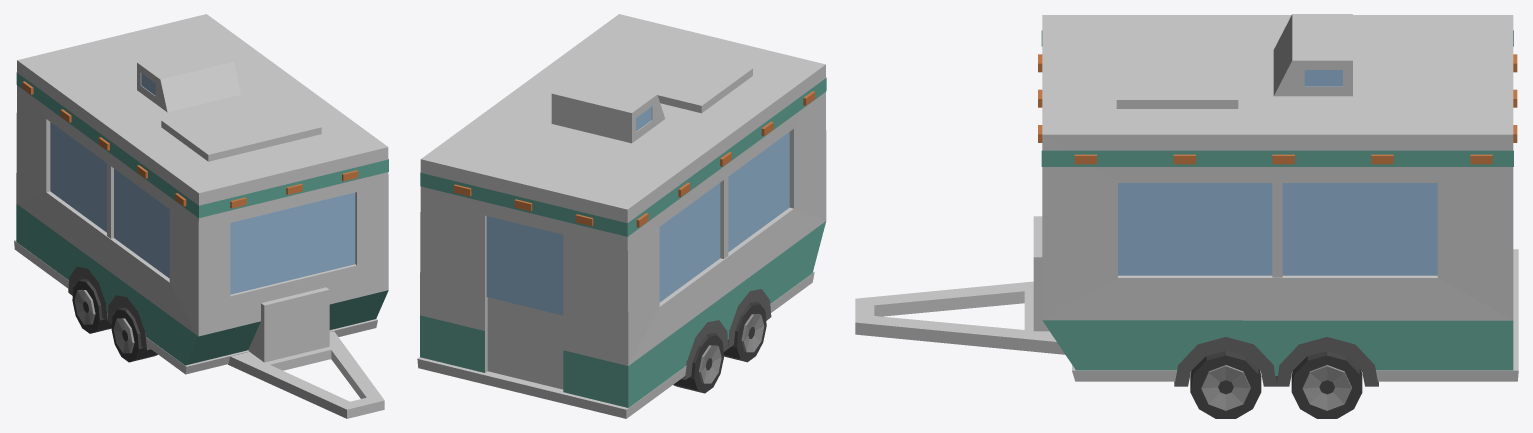
The model's file is transport_old_003.fbx.
The picture shows the model from 3 angles, left to right: view 1: azimuth 30°, elevation 25°; view 2: azimuth 150°, elevation 25°; view 3: azimuth 270°, elevation 25°; orthographic projection. The views are drawn at different scales.
Parts seen in each view (by area): view 1: transport_old_003; view 2: transport_old_003; view 3: transport_old_003.
Part boxes in pixels (<box>): transport_old_003: <box>14,14,388,418</box>; transport_old_003: <box>417,14,826,418</box>; transport_old_003: <box>855,14,1518,418</box>.
Bounding box in the file's own units: 157 × 185 × 349.
